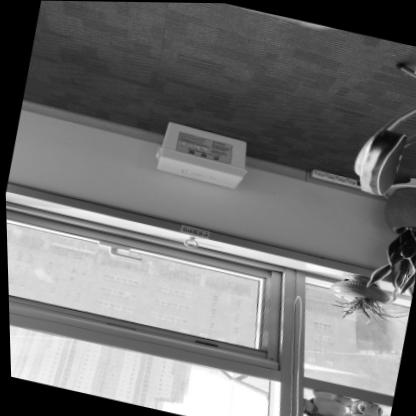DDL: (149, 117, 253, 189)
